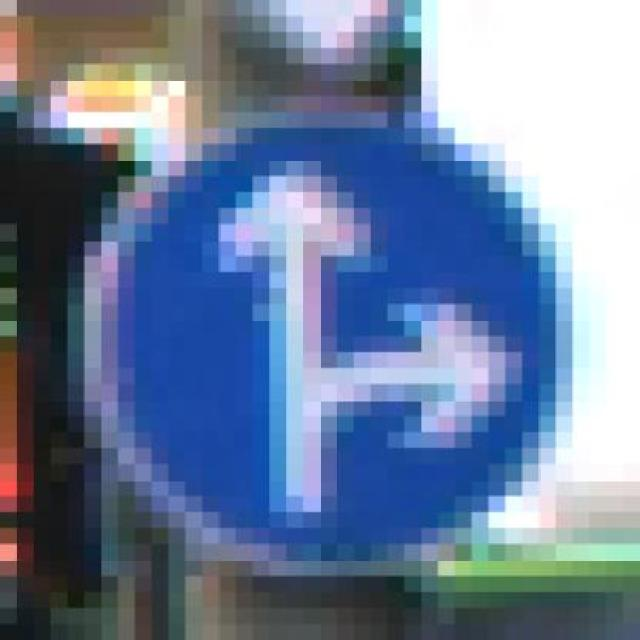Go Straight or Turn Right: (67, 112, 590, 576)
